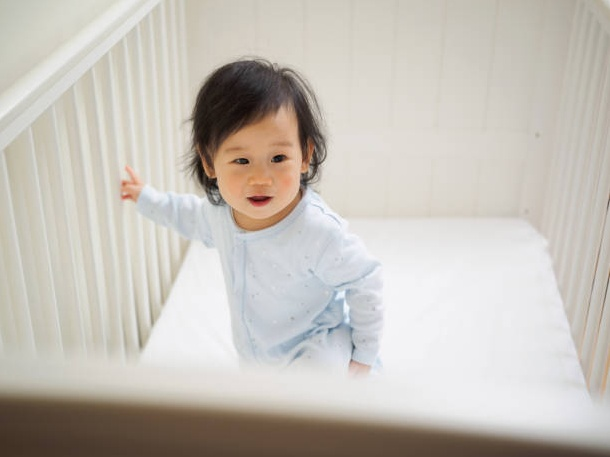baby: (121, 60, 383, 374)
crib: (0, 0, 609, 454)
